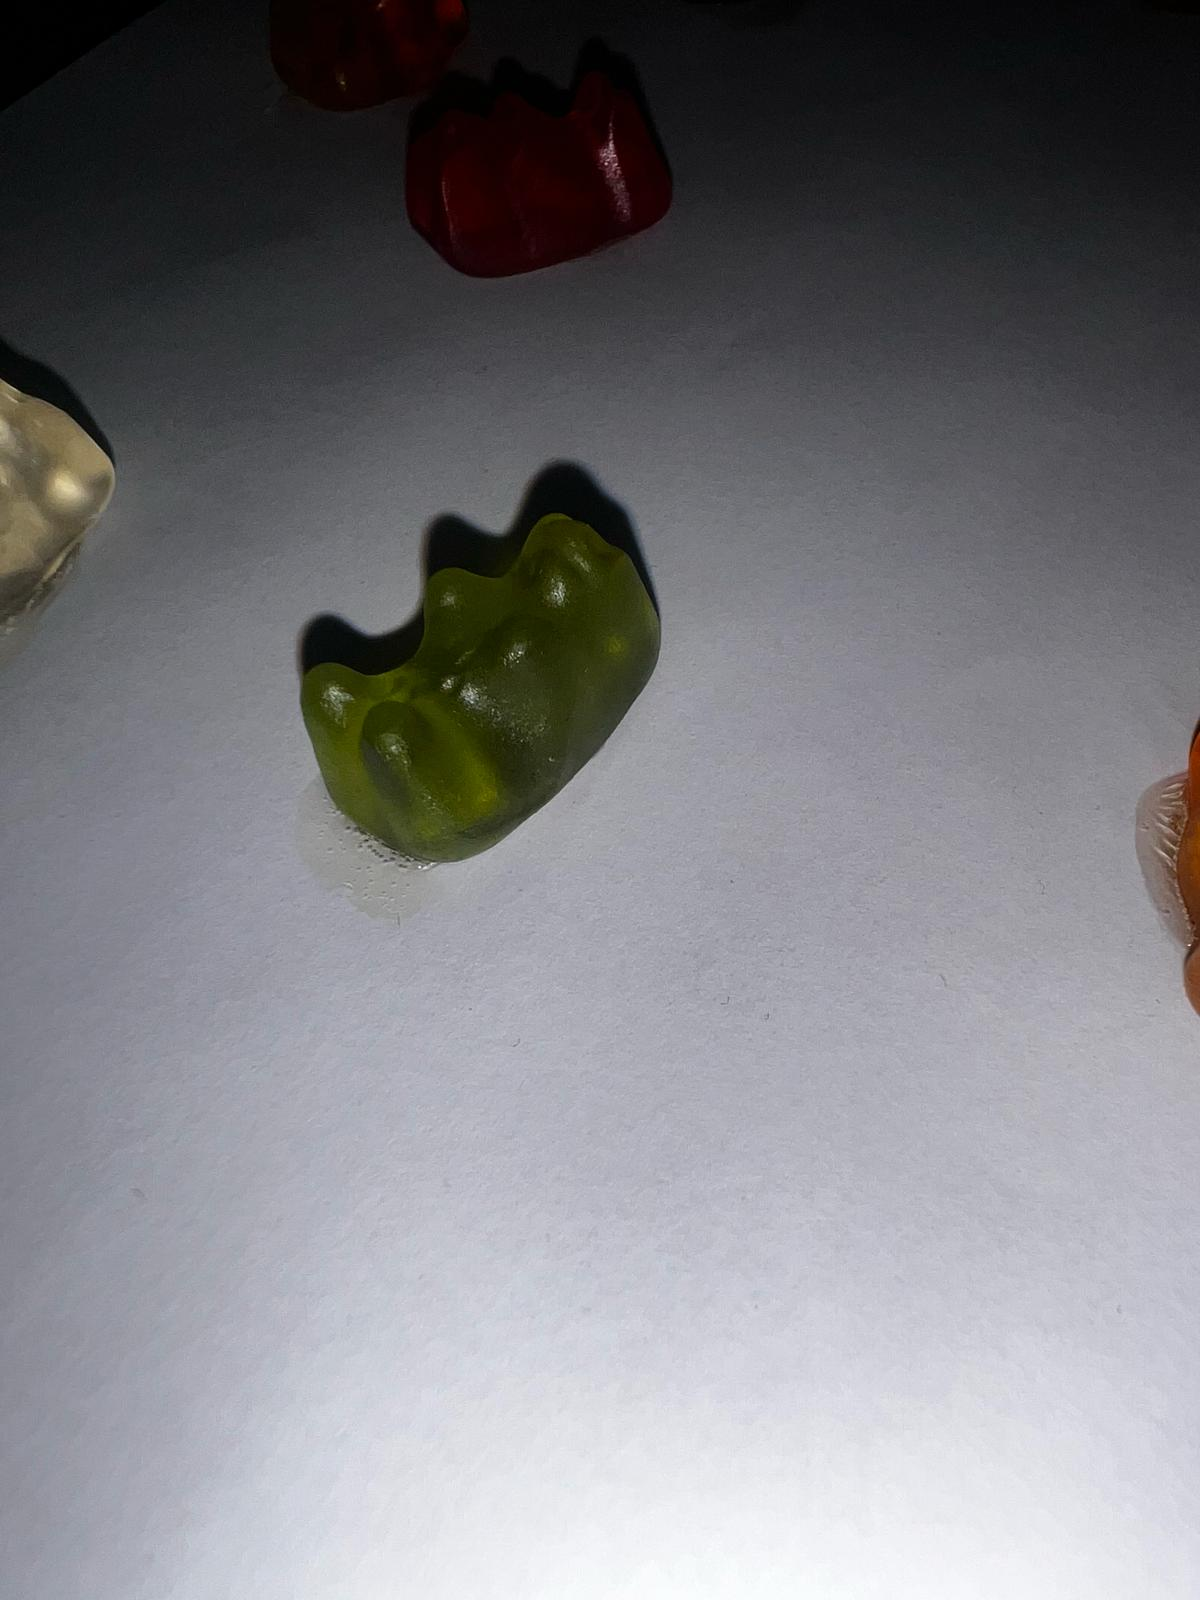gummybear: (287, 496, 672, 877), (395, 40, 718, 295)
